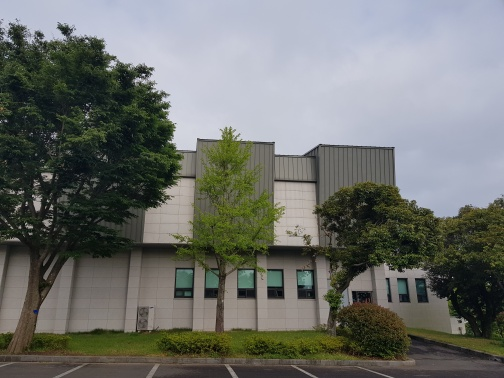Gym: (63, 145, 468, 337), (171, 262, 438, 335)
